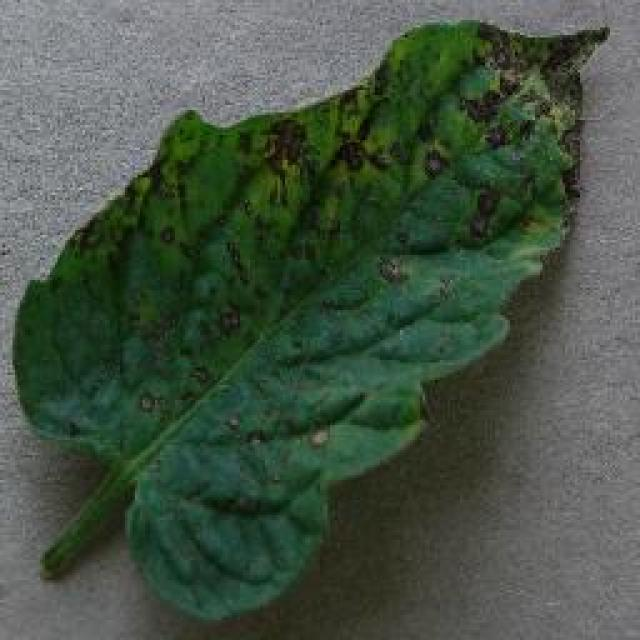Tomato Early blight leaf: (21, 19, 604, 628)
